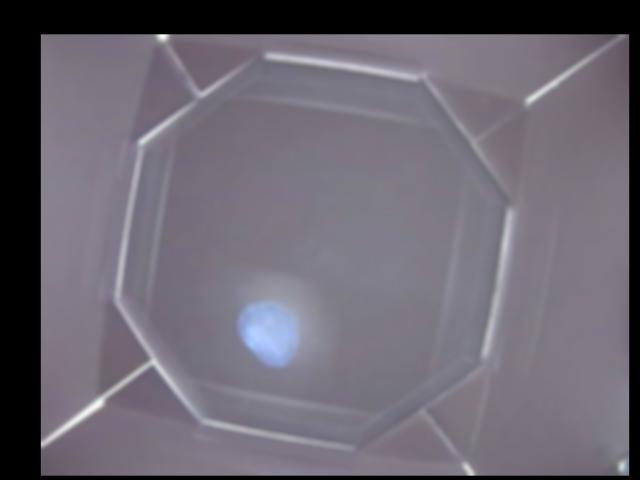Pebble: (238, 300, 297, 368)
